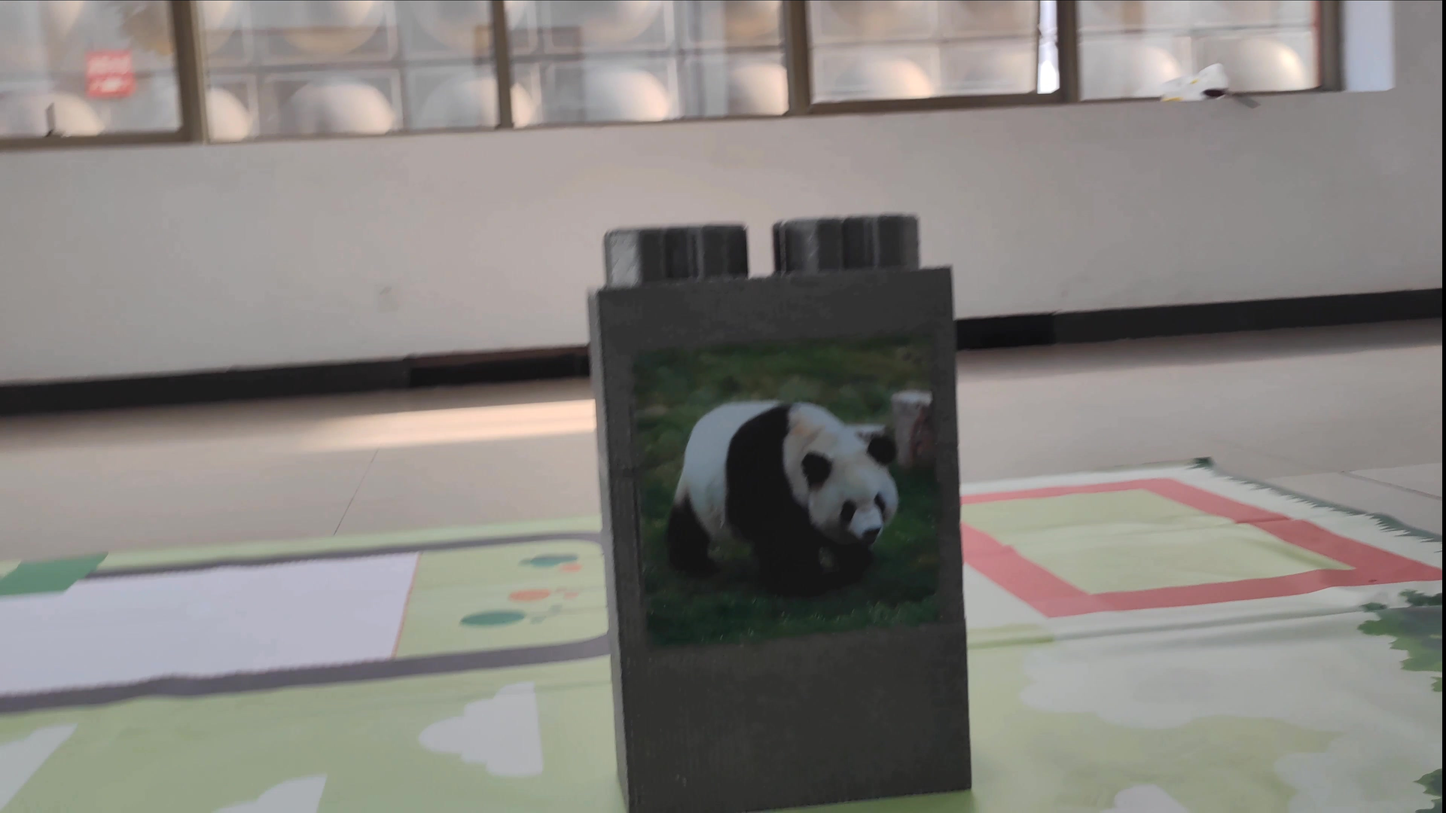panda: (637, 396, 925, 609)
